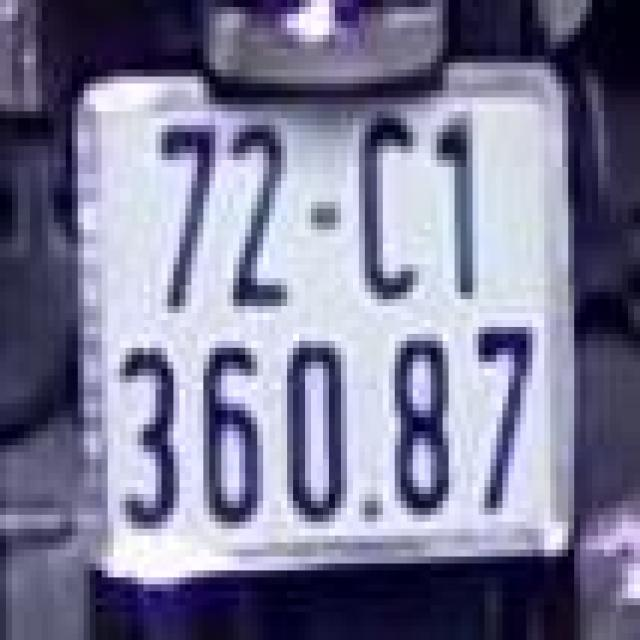0: (278, 341, 350, 529)
1: (430, 107, 490, 296)
2: (227, 115, 293, 316)
3: (110, 334, 188, 522)
6: (186, 327, 264, 515)
7: (464, 306, 559, 494), (150, 125, 222, 313)
8: (386, 324, 464, 518)
C: (347, 108, 425, 289)
